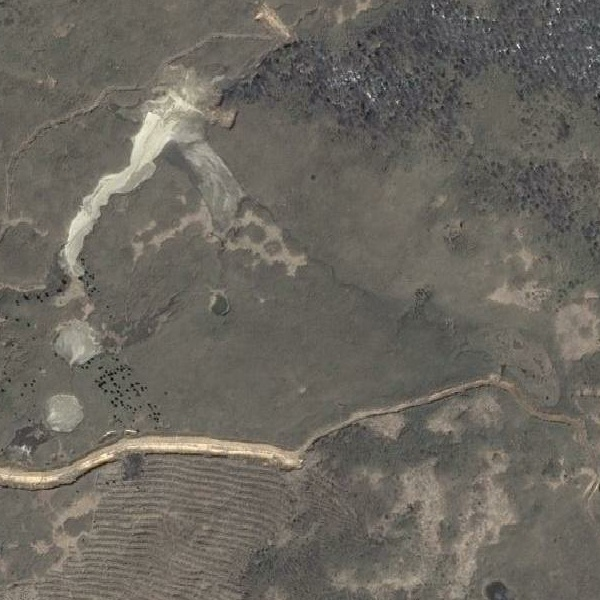slope: (47, 59, 312, 308), (46, 316, 129, 370), (42, 391, 87, 435), (251, 6, 297, 40)
